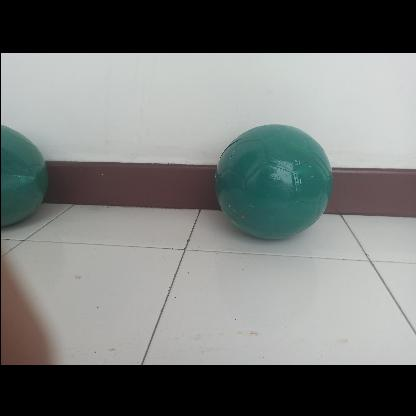green_ball: (212, 122, 330, 238)
